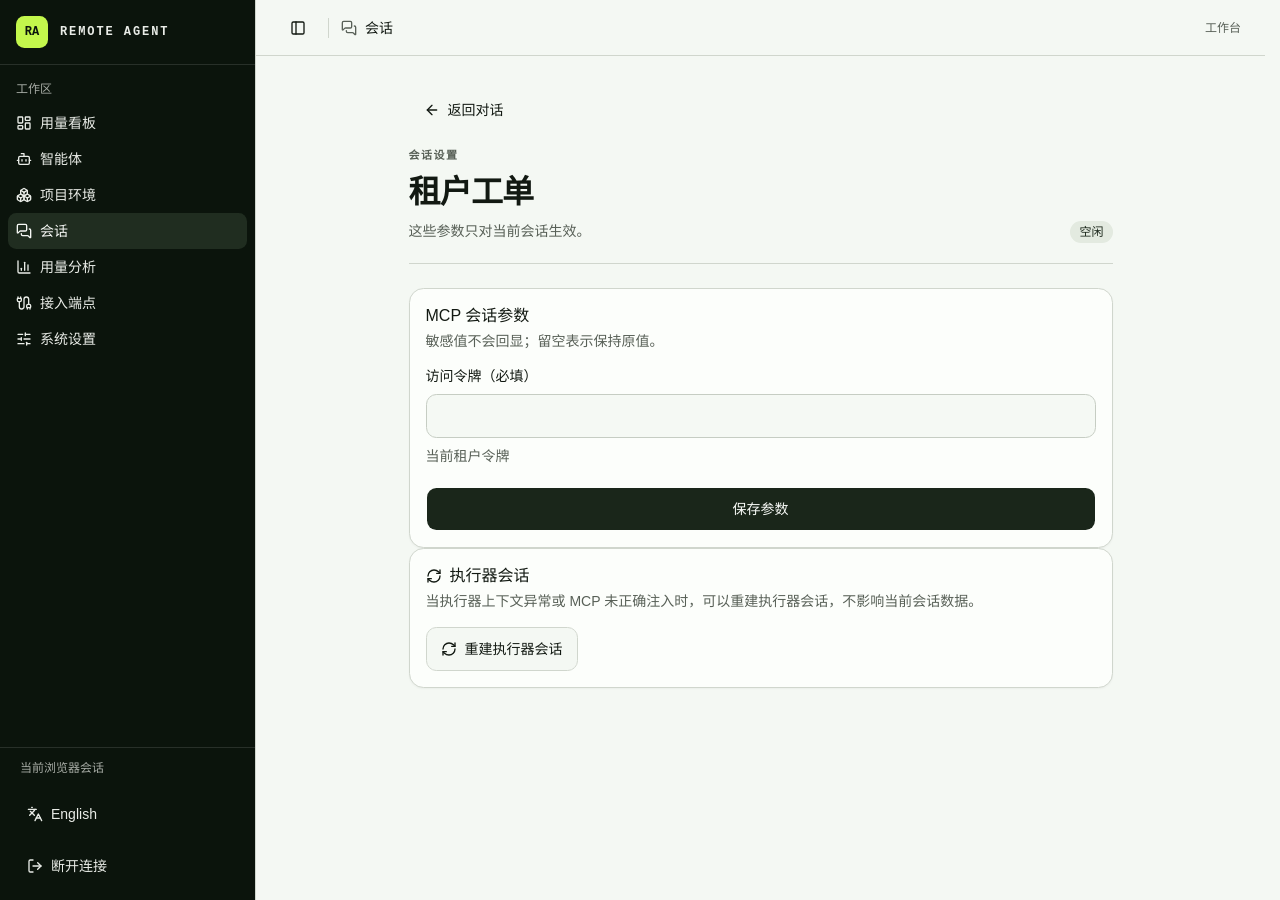
Scenario: Session 设置页修改参数，缺少必填参数时对话页禁止发送
In the password field labelled "访问令牌（必填）": (760, 416) left=426, top=394, right=1096, bottom=438, type "new-secret"
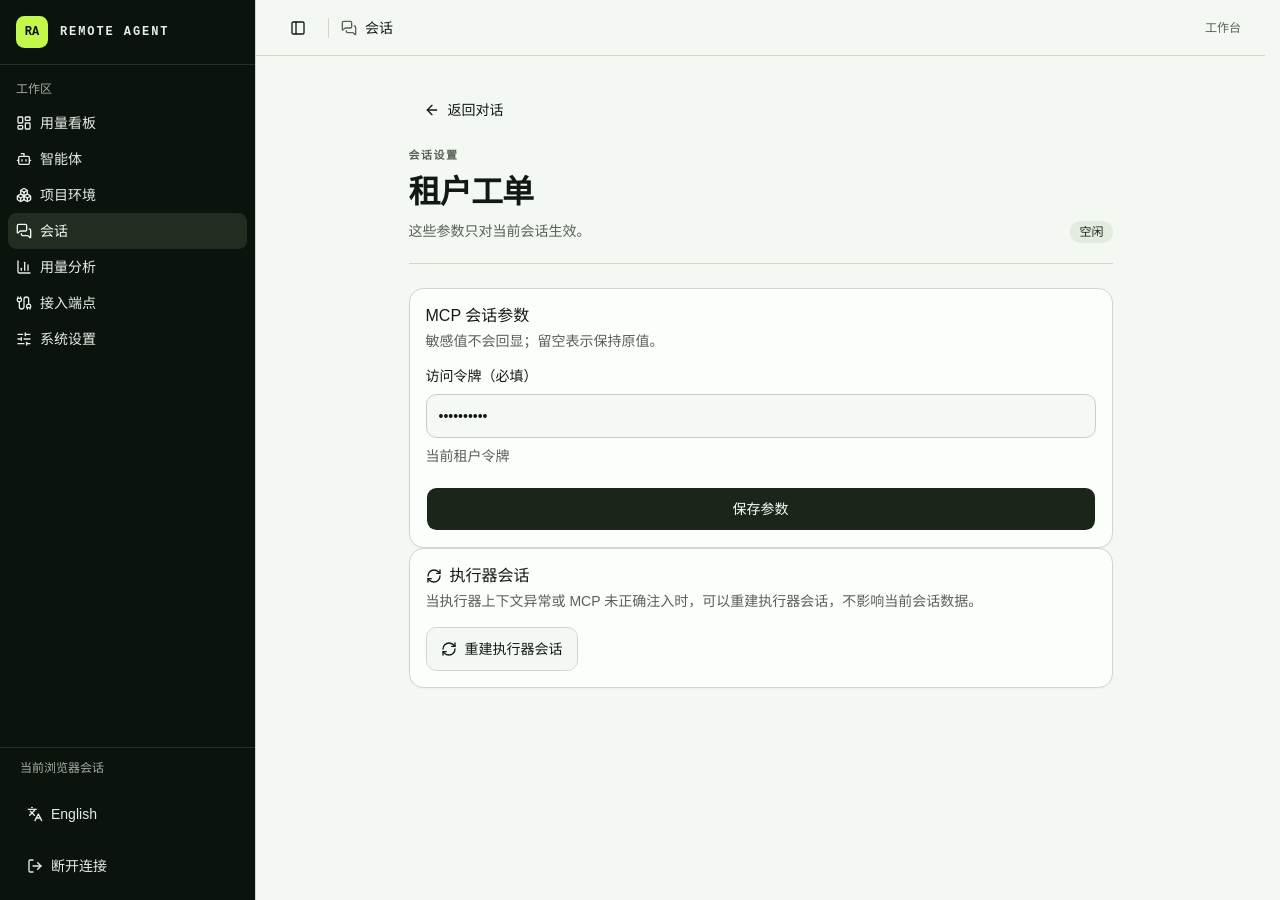
Click the button "保存参数": (760, 509) left=426, top=487, right=1096, bottom=531
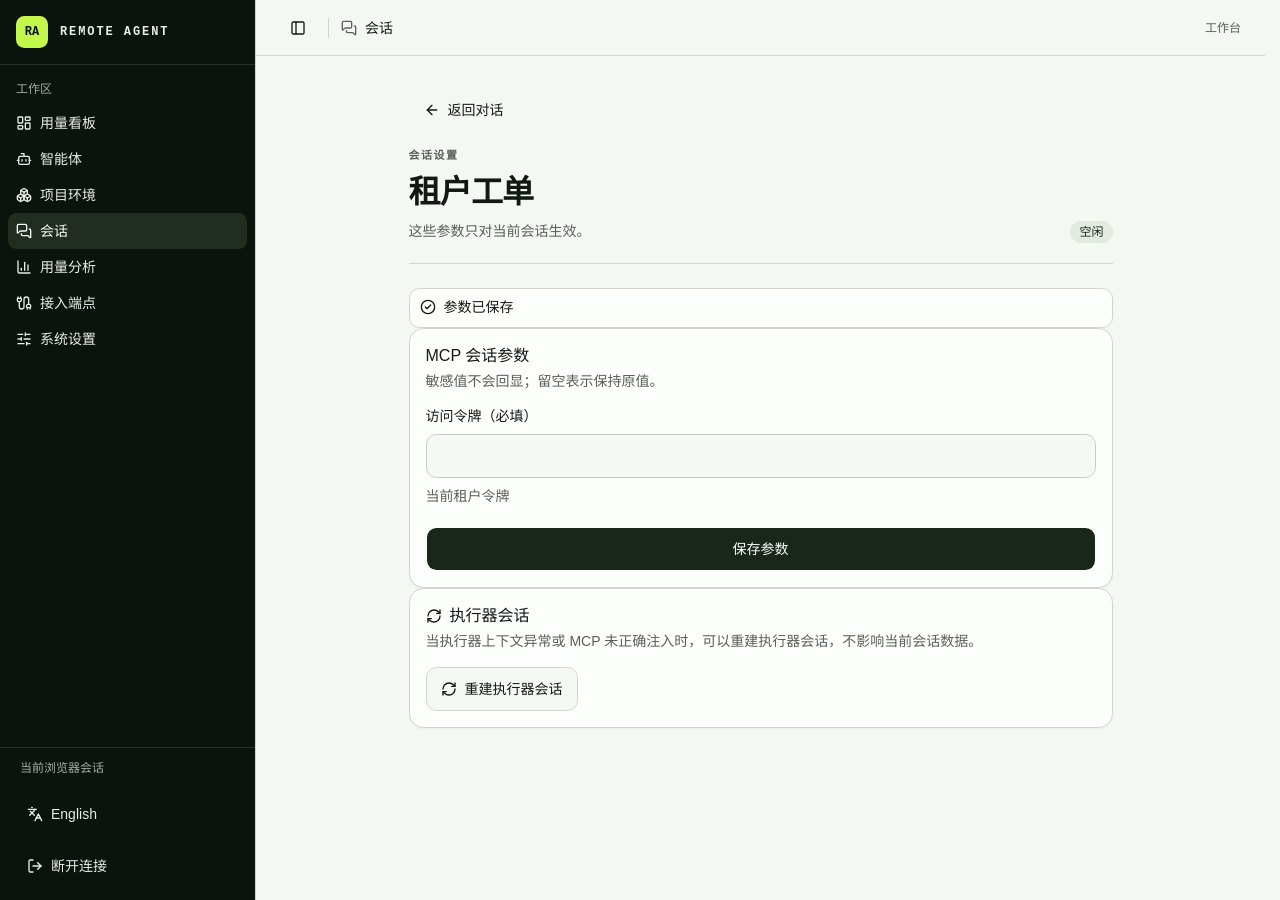
Now the text "参数已保存" is shown, box left=444, top=299, right=514, bottom=315
